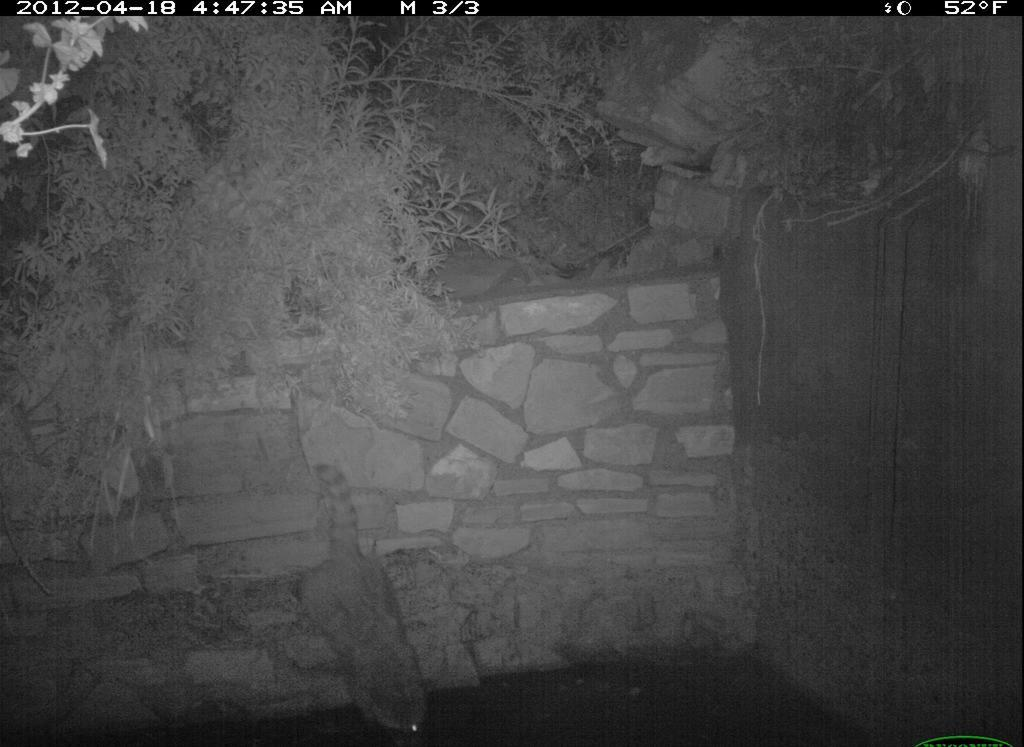raccoon: (286, 463, 436, 747)
